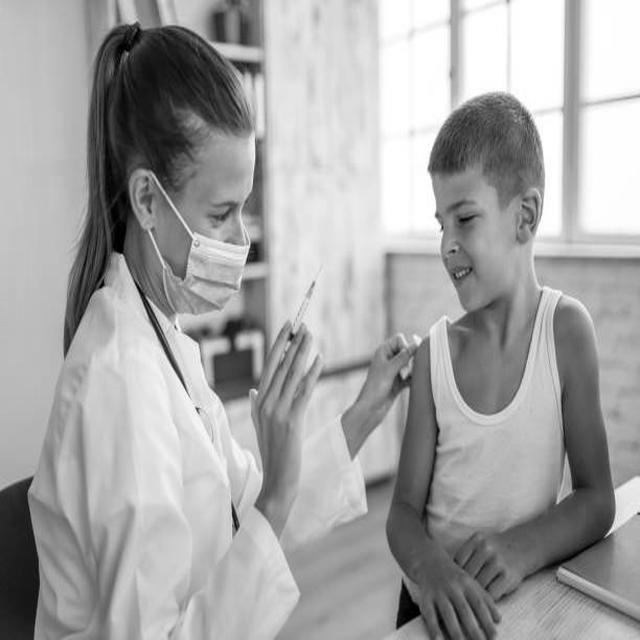Fear: (433, 165, 495, 311)
